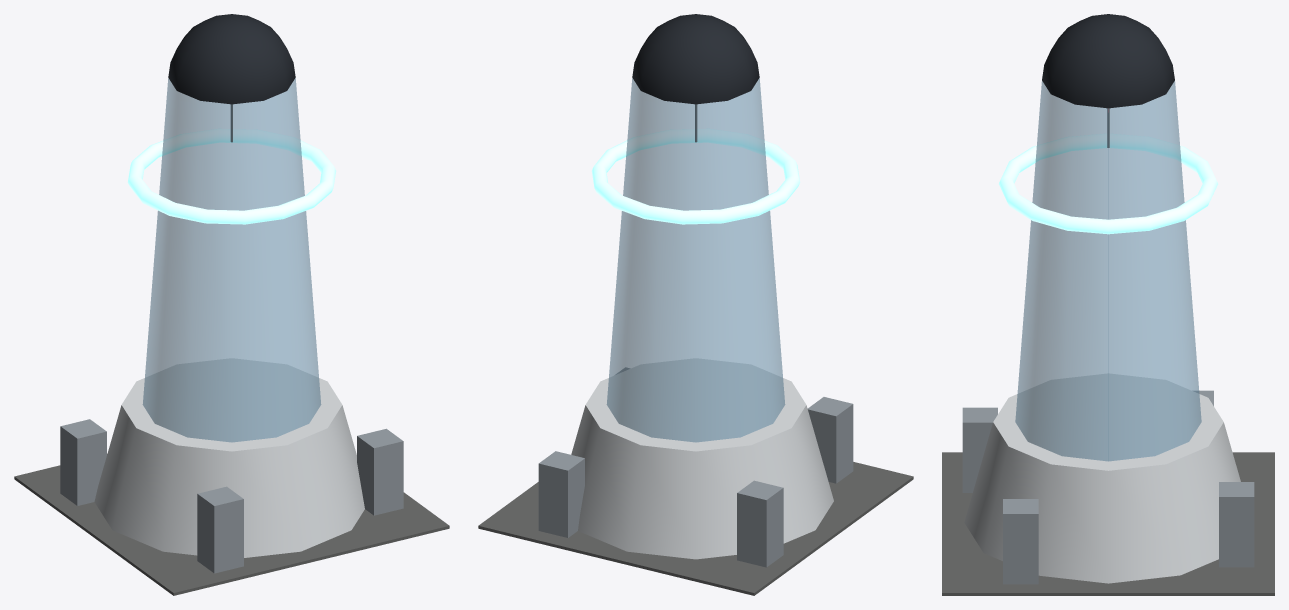
The model's file is bld_special_command_center_a08.glb.
The picture shows the model from 3 angles, left to right: view 1: azimuth 30°, elevation 25°; view 2: azimuth 150°, elevation 25°; view 3: azimuth 270°, elevation 25°; orthographic projection. The views are drawn at different scales.
Visible parts, largest first — view 1: body; view 2: body; view 3: body.
Part boxes in pixels (bbox=[...]): body: bbox=[14, 14, 449, 595]; body: bbox=[478, 14, 913, 595]; body: bbox=[942, 14, 1274, 595].
Size of what is drawn, in the model's own units: 15 by 25.15 by 15.
